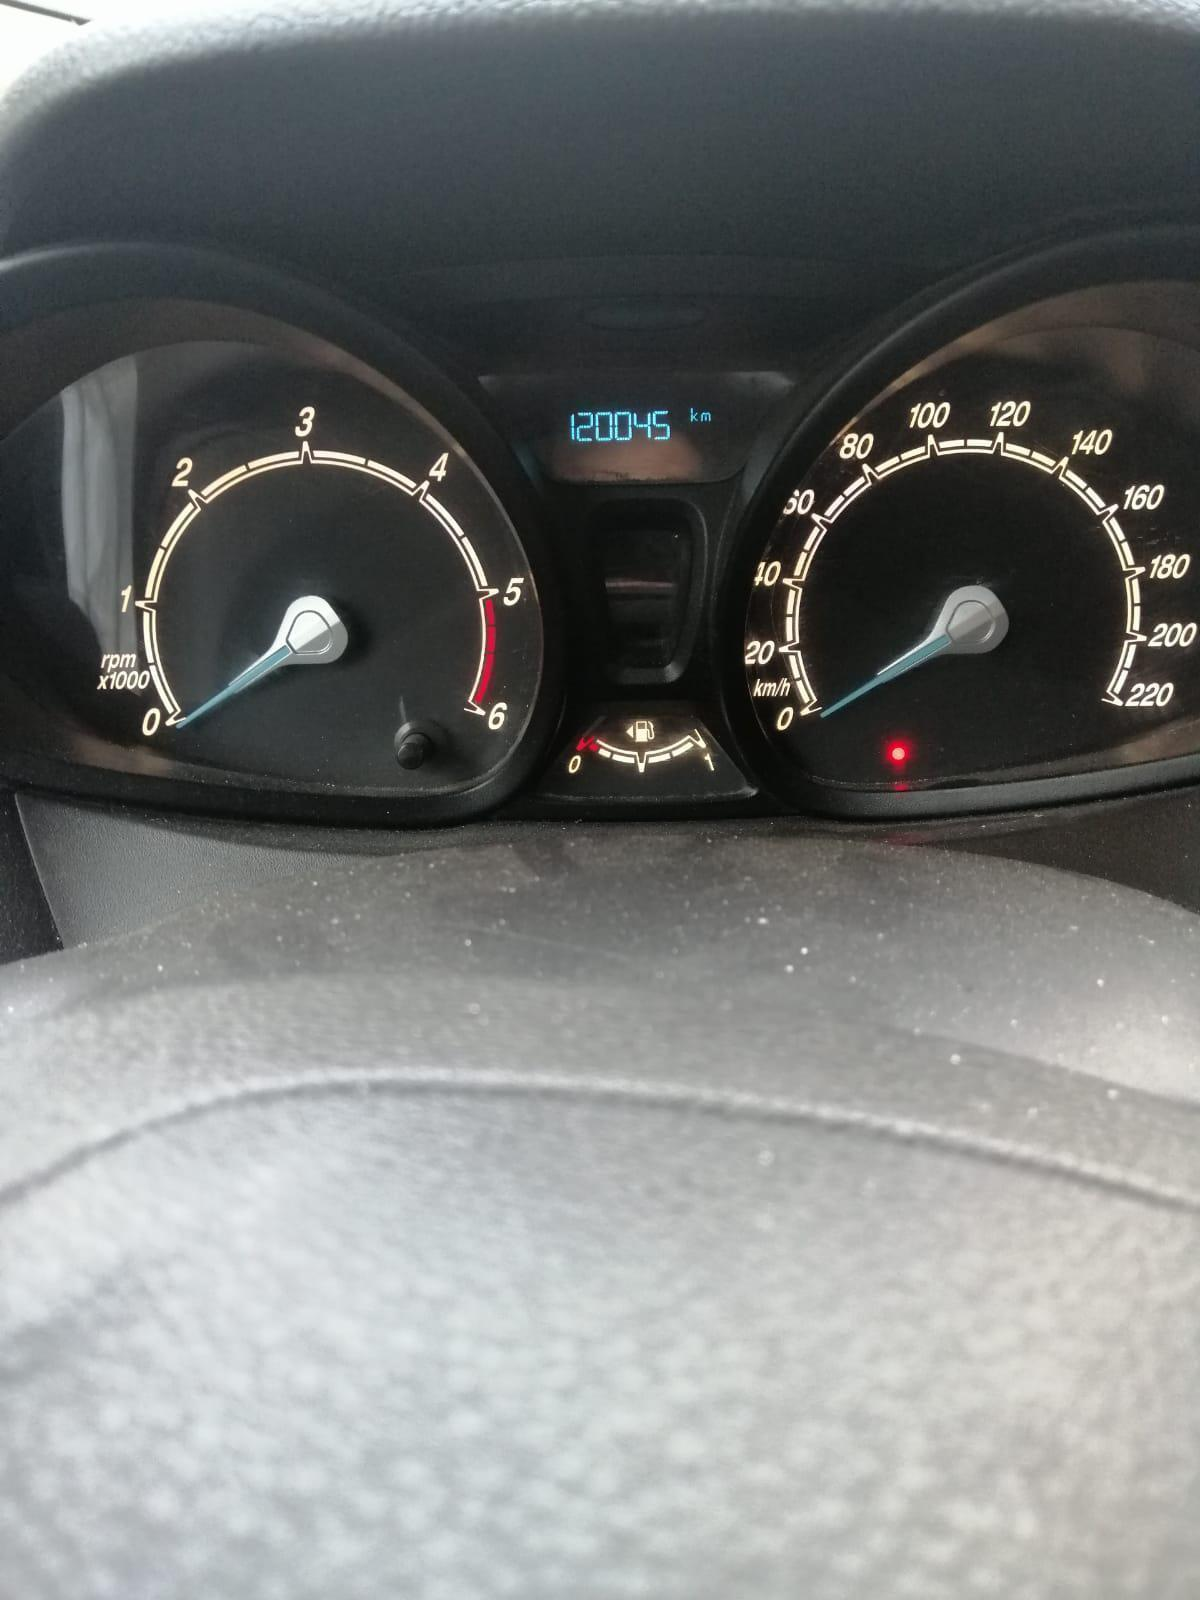0: (594, 411, 613, 441), (614, 409, 632, 440)
1: (568, 412, 575, 440)
2: (575, 411, 592, 442)
4: (632, 411, 652, 438)
5: (652, 409, 671, 440)
X: (689, 407, 700, 423), (700, 411, 712, 422)
odometer: (543, 383, 734, 475)
